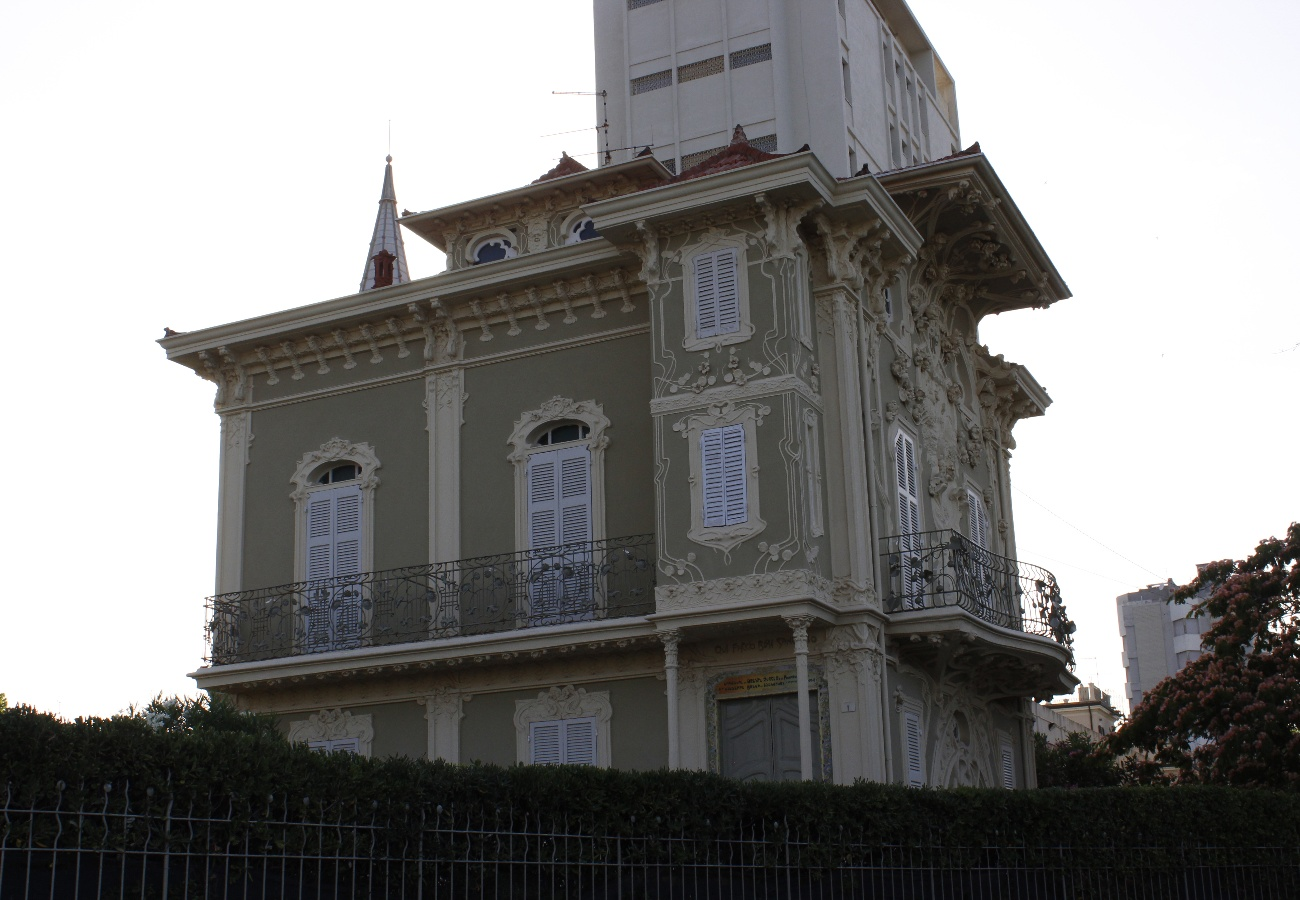Villino Ruggeri: (159, 122, 1081, 885)
